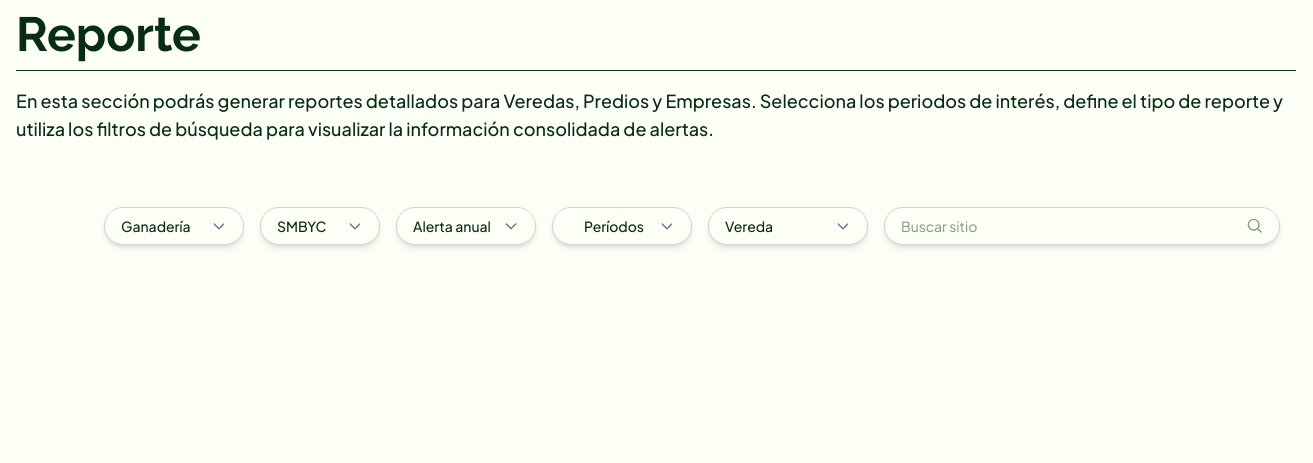
it: Reporte › the generate button › appears once a scope, a period and a vereda are chosen
Expected: the text "Vereda" is shown, [725,217,773,235]
Click the button "Períodos" at x=622, y=226, box [552,207,692,245]
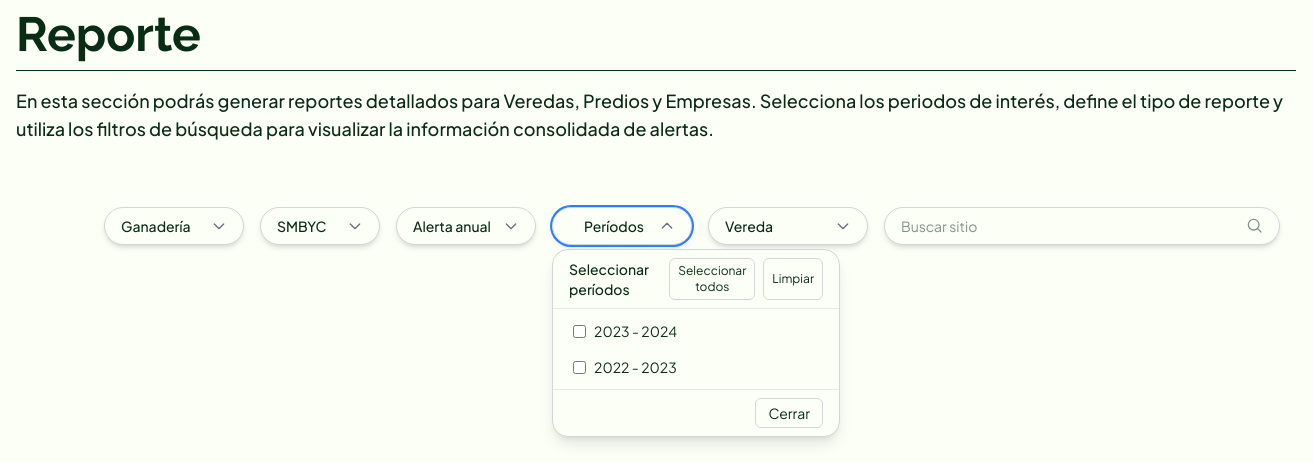
Click the checkbox labelled "2023 - 2024" at x=580, y=331, box [573,324,586,338]
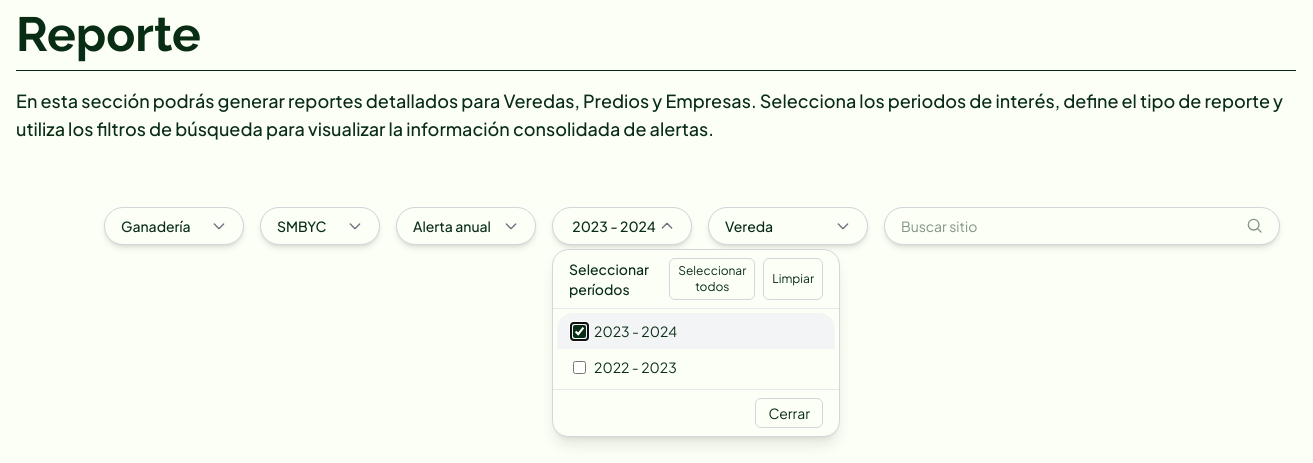
Click the button "Cerrar" at x=789, y=413, box [755,398,823,428]
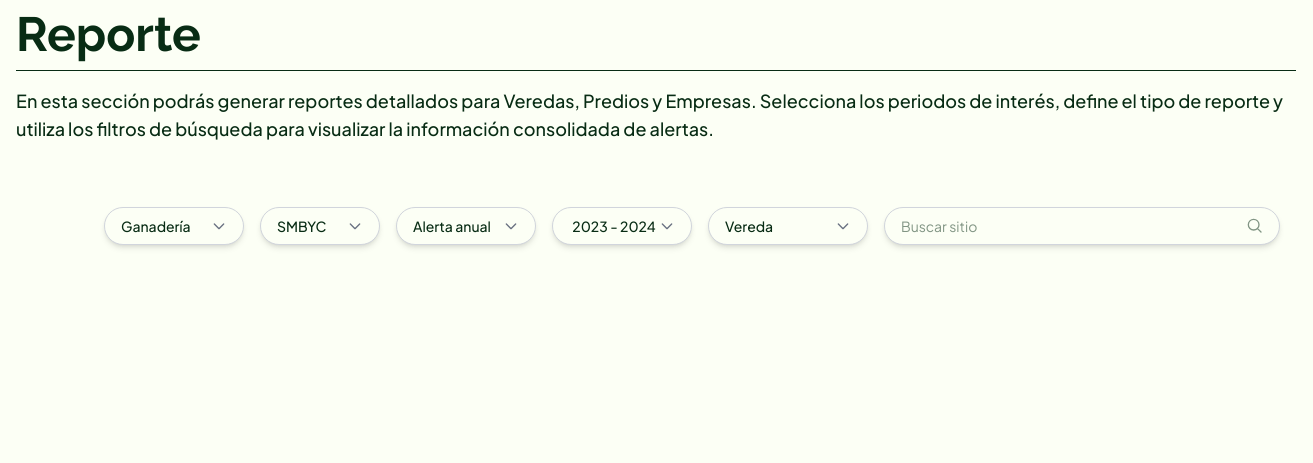
Type "Retorno" into the field at x=1062, y=226, box [885,208,1239,244]
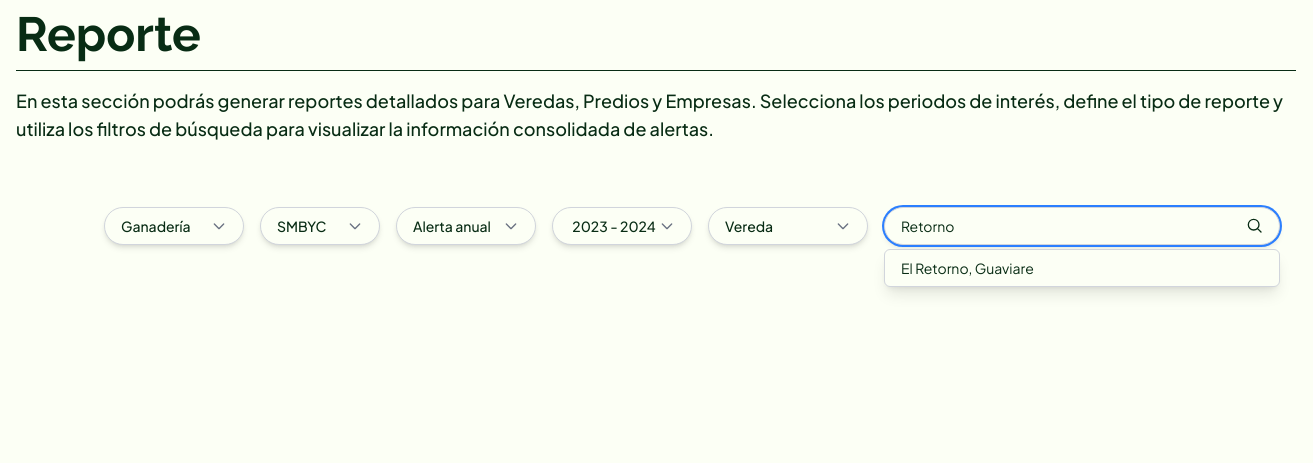
Click the option "El Retorno, Guaviare" at x=967, y=268, box [901,259,1034,277]
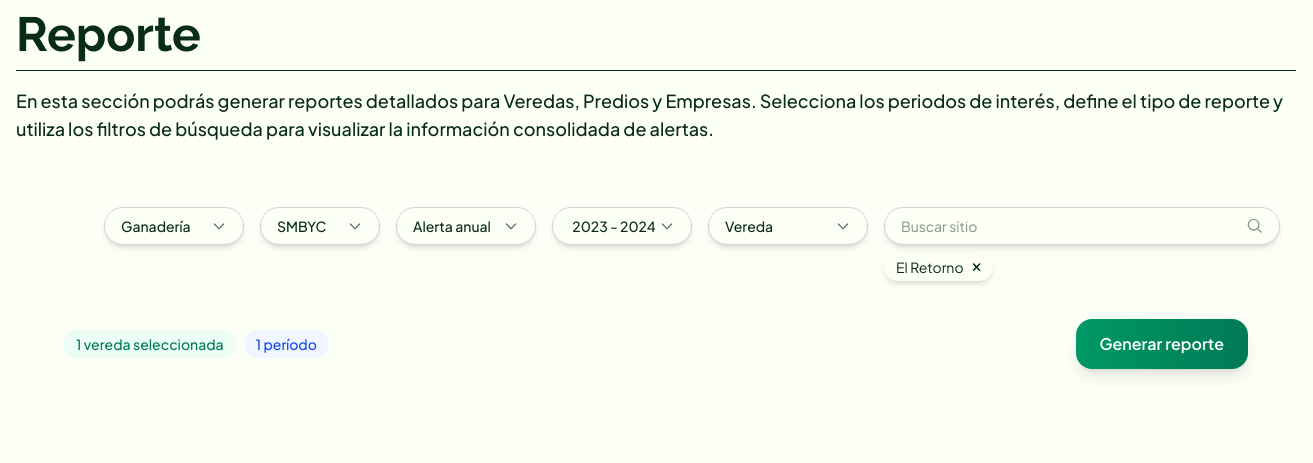
Expected: the button "Generar reporte" is shown, [1076,319,1248,369]
